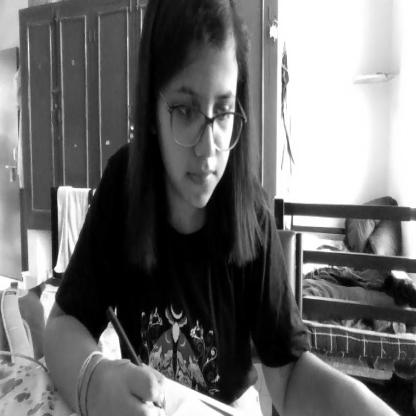Distracted: (150, 0, 242, 217)
